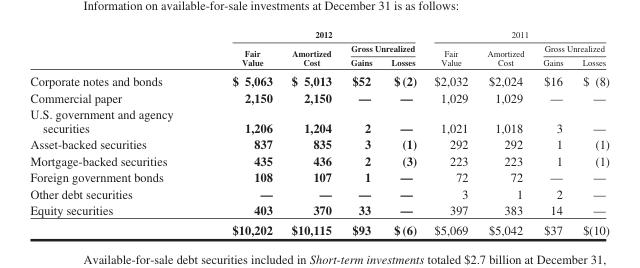table: (29, 28, 608, 236)
table column: (29, 28, 202, 236), (202, 28, 281, 236), (281, 28, 340, 236), (477, 28, 533, 236), (424, 28, 477, 236), (381, 28, 424, 236), (340, 28, 381, 236), (533, 28, 572, 236), (572, 28, 608, 236)
table column header: (29, 28, 608, 70)
table row: (29, 105, 608, 135), (29, 70, 608, 88), (29, 201, 608, 219), (29, 88, 608, 105), (29, 135, 608, 152), (29, 184, 608, 201), (29, 219, 608, 236), (29, 54, 608, 70), (29, 152, 608, 168), (29, 168, 608, 184), (29, 40, 608, 54), (29, 28, 608, 40)
table spanning cell: (202, 28, 424, 40), (202, 40, 281, 70), (424, 28, 608, 40), (281, 40, 340, 70), (477, 40, 533, 70), (424, 40, 477, 70), (340, 40, 424, 54), (533, 40, 608, 54)
